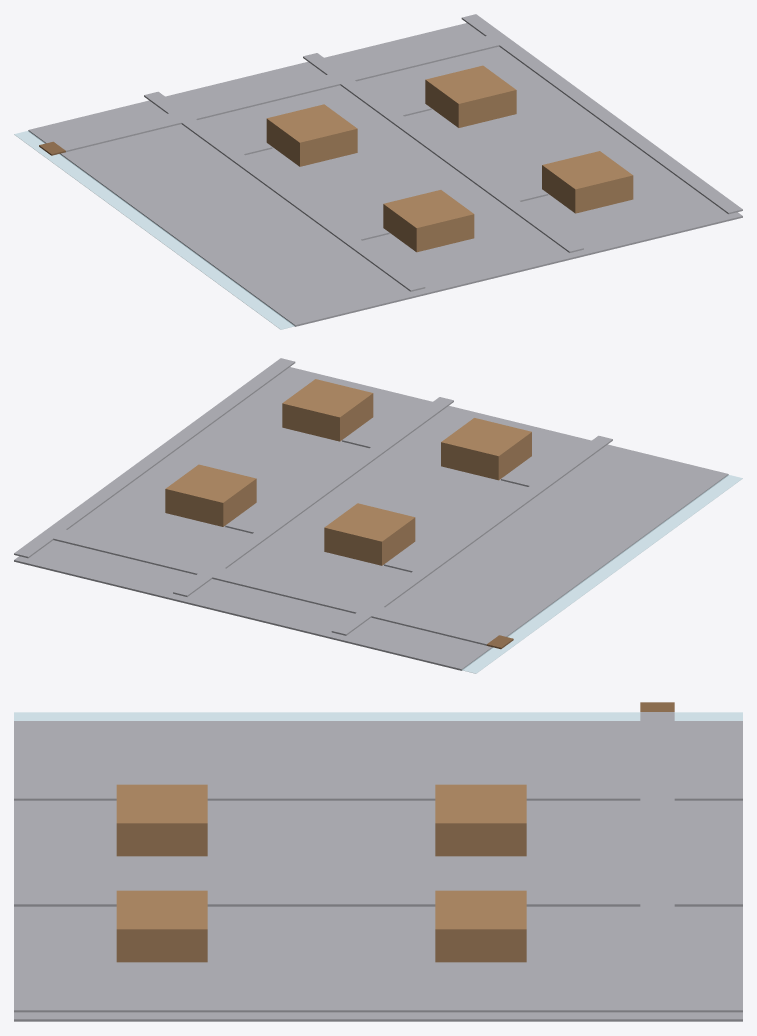
File: city_c01_02.glb
3 renders of one model, top to bottom at view 1: azimuth 30°, elevation 25°; view 2: azimuth 150°, elevation 25°; view 3: azimuth 270°, elevation 25°, orthographic. The views are drawn at different scales.
Visible parts, largest first — view 1: terrain_west_proxy__c01_02, road_cross_west__c01_02, road_west_4__c01_02, road_west_2__c01_02, road_west_3__c01_02, building_064__c01_02, building_063__c01_02, building_054__c01_02, building_053__c01_02, river_water_proxy__c01_02; view 2: terrain_west_proxy__c01_02, road_cross_west__c01_02, road_west_4__c01_02, road_west_3__c01_02, road_west_2__c01_02, building_053__c01_02, building_054__c01_02, building_063__c01_02, building_064__c01_02, river_water_proxy__c01_02; view 3: terrain_west_proxy__c01_02, road_cross_west__c01_02, road_west_2__c01_02, road_west_3__c01_02, building_053__c01_02, building_054__c01_02, building_063__c01_02, building_064__c01_02, road_west_4__c01_02, river_water_proxy__c01_02.
Part boxes in pixels (left/top/right/bottom): terrain_west_proxy__c01_02: left=28, top=23, right=742, bottom=326; road_cross_west__c01_02: left=54, top=32, right=513, bottom=152; road_west_4__c01_02: left=144, top=91, right=425, bottom=291; road_west_2__c01_02: left=461, top=14, right=742, bottom=214; road_west_3__c01_02: left=303, top=53, right=583, bottom=252; building_064__c01_02: left=383, top=190, right=474, bottom=252; building_063__c01_02: left=542, top=151, right=633, bottom=213; building_054__c01_02: left=266, top=104, right=357, bottom=166; building_053__c01_02: left=425, top=65, right=516, bottom=127; river_water_proxy__c01_02: left=14, top=131, right=294, bottom=329; terrain_west_proxy__c01_02: left=14, top=367, right=728, bottom=670; road_cross_west__c01_02: left=39, top=526, right=498, bottom=645; road_west_4__c01_02: left=331, top=435, right=612, bottom=635; road_west_3__c01_02: left=173, top=397, right=453, bottom=596; road_west_2__c01_02: left=14, top=358, right=295, bottom=558; building_053__c01_02: left=165, top=464, right=256, bottom=526; building_054__c01_02: left=324, top=503, right=415, bottom=565; building_063__c01_02: left=282, top=379, right=373, bottom=441; building_064__c01_02: left=441, top=418, right=531, bottom=480; river_water_proxy__c01_02: left=462, top=475, right=742, bottom=673; terrain_west_proxy__c01_02: left=14, top=721, right=742, bottom=1021; road_cross_west__c01_02: left=640, top=712, right=674, bottom=1012; road_west_2__c01_02: left=14, top=1000, right=742, bottom=1012; road_west_3__c01_02: left=14, top=894, right=742, bottom=906; building_053__c01_02: left=435, top=890, right=526, bottom=962; building_054__c01_02: left=435, top=784, right=526, bottom=856; building_063__c01_02: left=116, top=890, right=207, bottom=962; building_064__c01_02: left=116, top=784, right=207, bottom=856; road_west_4__c01_02: left=14, top=789, right=742, bottom=800; river_water_proxy__c01_02: left=14, top=712, right=742, bottom=720.
Size of the model in its own units: 128 by 8.6 by 128.
